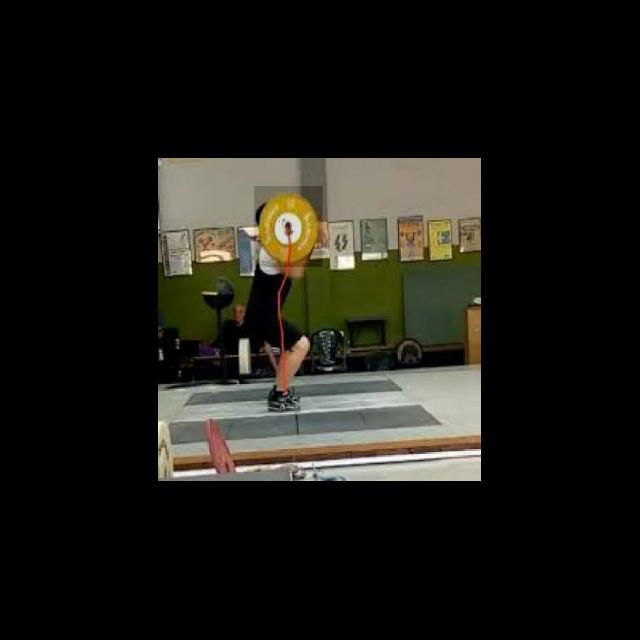barbell: (254, 186, 323, 267)
